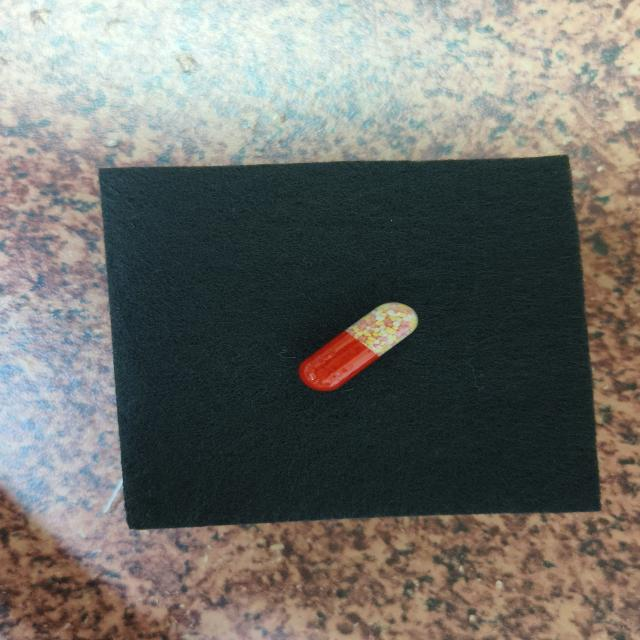Intact Capsule: (299, 302, 418, 391)
